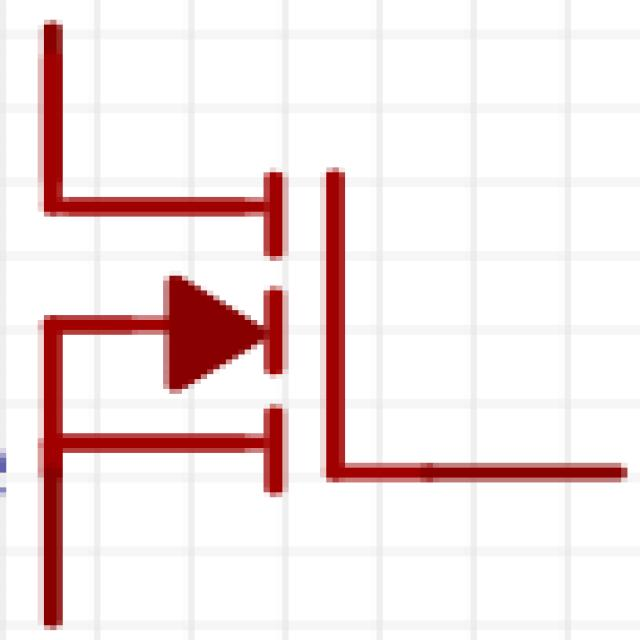nmos: (19, 5, 640, 605)
